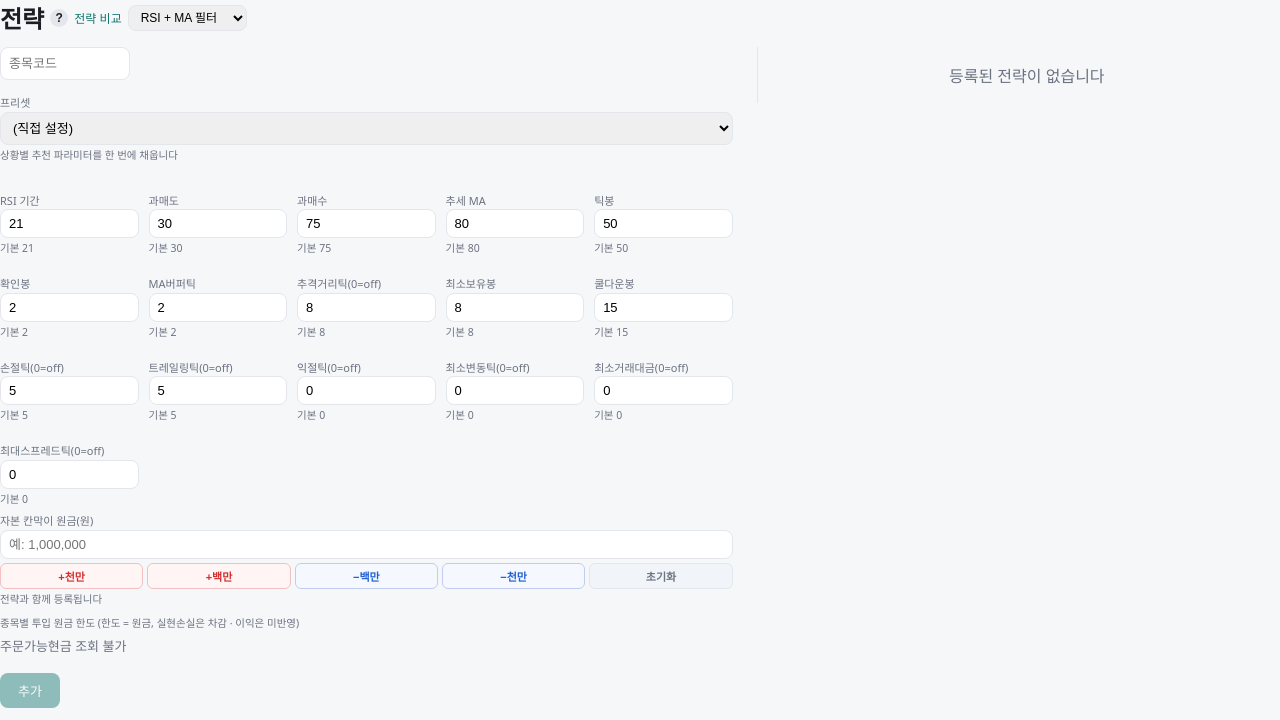
Test case: StrategyPanel › 도움말 버튼을 누르면 중앙 모달로 전략 설명·10/40 의미가 뜬다
Note: 기본은 RSI+MA이므로 이동평균 크로스로 전환 후 도움말 확인
Select "이동평균 크로스" in the dropdown named "전략 선택" at (187, 18), box left=128, top=4, right=247, bottom=30
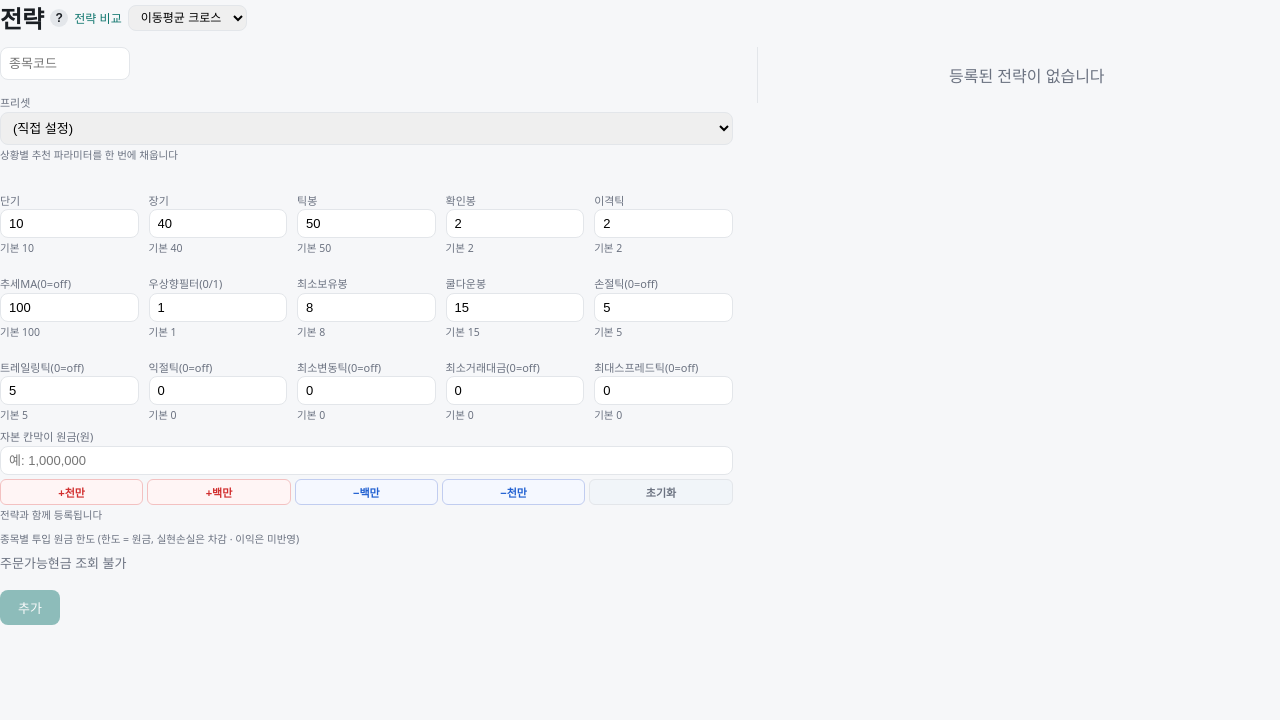
Click the button named "이동평균 크로스 도움말" at (59, 18), box left=50, top=8, right=68, bottom=26
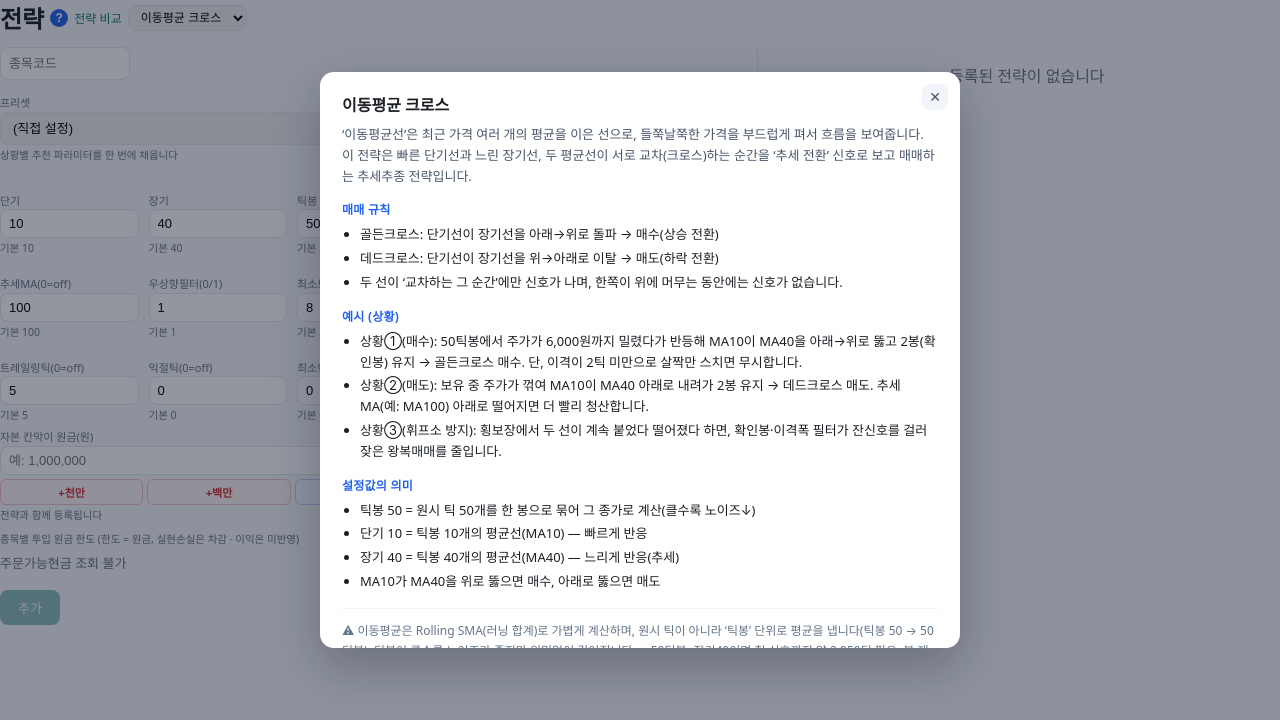
Check: the dialog shows "골든크로스", box left=360, top=225, right=719, bottom=243
Check: the dialog shows "틱봉", box left=360, top=501, right=755, bottom=519
